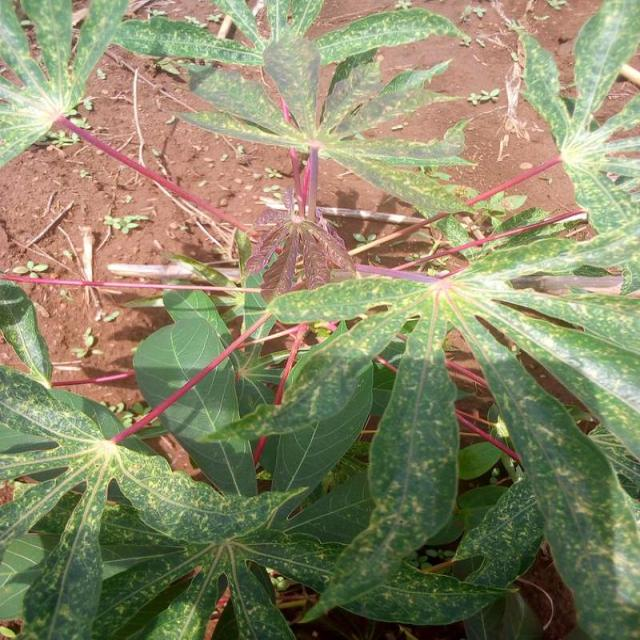Mosaico: (277, 269, 640, 489), (177, 30, 431, 164), (40, 408, 205, 562), (526, 24, 640, 220), (0, 0, 103, 136)
